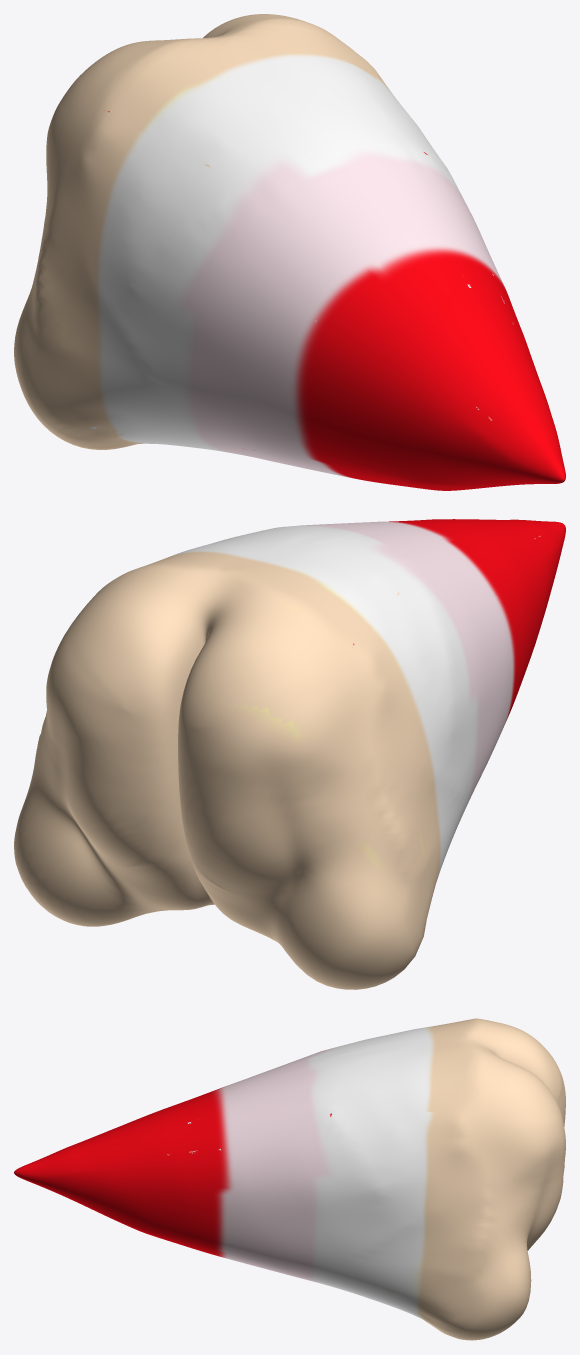
The model's file is ButtRocket.fbx.
3 renders of one model, top to bottom at view 1: azimuth 30°, elevation 25°; view 2: azimuth 150°, elevation 25°; view 3: azimuth 270°, elevation 25°, orthographic. The views are drawn at different scales.
Visible parts, largest first — view 1: Quad Sphere; view 2: Quad Sphere; view 3: Quad Sphere.
Part boxes in pixels (x1,y1,x2,y2): Quad Sphere: [14, 14, 565, 490]; Quad Sphere: [14, 519, 565, 989]; Quad Sphere: [14, 1018, 565, 1340].
Bounding box in the file's own units: 267 × 251 × 492.
Materials: 1 (1 with a texture image).
